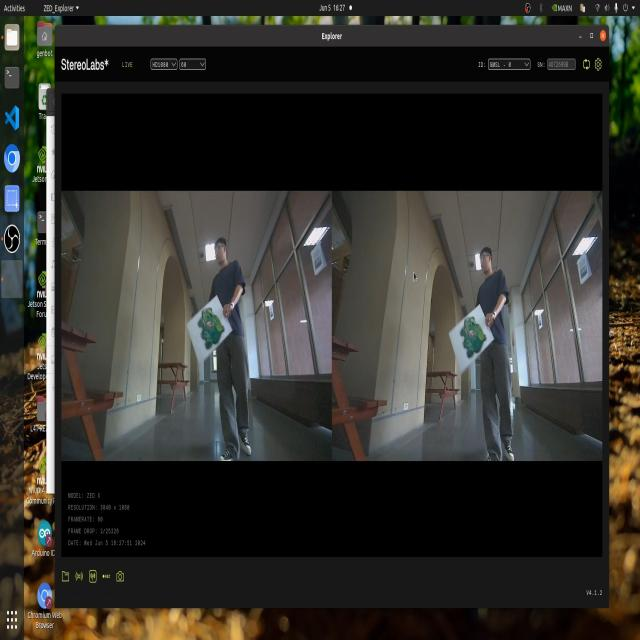green: (195, 307, 232, 357), (457, 316, 492, 366)
